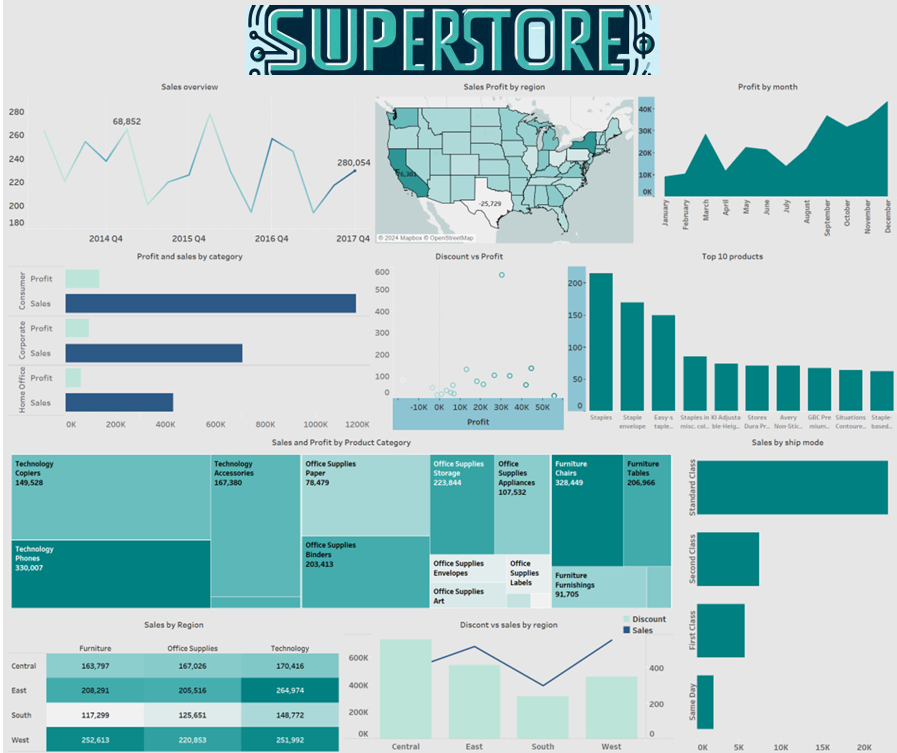

The dashboard page shown, as its layout file describes it:
{"tool":"tableau","page":{"name":"Super store Dashboard","canvas":[1900,1600],"ordinal":0},"visuals":[{"type":"image","param":"Image/the word superstore in teal color in 1 line.png","box":[8,8,1884,153]},{"type":"worksheet","title":"Sales overview","mark":"Line","rows":["Sales"],"cols":["Order Date"],"box":[8,161,773,357.6]},{"type":"worksheet","title":"Sales Profit by region","mark":"Multipolygon","box":[781,161,555.5,357.6]},{"type":"worksheet","title":"Profit by month","mark":"Area","rows":["Profit"],"cols":["Order Date"],"box":[1336.5,161,555.5,357.6]},{"type":"worksheet","title":"Profit and sales by category","mark":"Automatic","rows":["Segment"],"box":[8,518.6,773,392.8]},{"type":"worksheet","title":"Discount vs Profit","mark":"Automatic","rows":["Discount"],"cols":["Profit"],"box":[781,518.6,407.2,392.8]},{"type":"worksheet","title":"Top 10 products","mark":"Automatic","rows":["Quantity"],"cols":["Product Name"],"box":[1188.2,518.6,703.8,392.8]},{"type":"worksheet","title":"Sales and Profit by Product Category","mark":"Automatic","box":[8,911.4,1413,384.2]},{"type":"worksheet","title":"Sales by ship mode","mark":"Bar","rows":["Ship Mode"],"cols":["Quantity"],"box":[1421,911.4,471,680.6]},{"type":"legend","title":"Discont vs sales by region","param":"[federated.18ff1cu0rirlk819p8szz0paglep].[:Measure Names]","box":[1305,1295,165,94]},{"type":"worksheet","title":"Sales by Region","mark":"Square","rows":["Region"],"cols":["Category"],"box":[8,1295.6,706.5,296.4]},{"type":"worksheet","title":"Discont vs sales by region","mark":"Automatic","rows":["Sales","Discount"],"cols":["Region"],"box":[714.5,1295.6,706.5,296.4]}]}

Visuals, with their boxes in screenshot pixels (x1, y1, x2, y2), scaled from the page's 1900x1600 canvas onto the 897x753 screenshot:
image: crop(4, 4, 893, 76)
"Sales overview" worksheet (Line marks): crop(4, 76, 369, 244)
"Sales Profit by region" worksheet (Multipolygon marks): crop(369, 76, 631, 244)
"Profit by month" worksheet (Area marks): crop(631, 76, 893, 244)
"Profit and sales by category" worksheet: crop(4, 244, 369, 429)
"Discount vs Profit" worksheet: crop(369, 244, 561, 429)
"Top 10 products" worksheet: crop(561, 244, 893, 429)
"Sales and Profit by Product Category" worksheet: crop(4, 429, 671, 610)
"Sales by ship mode" worksheet (Bar marks): crop(671, 429, 893, 749)
"Discont vs sales by region" legend: crop(616, 609, 694, 654)
"Sales by Region" worksheet (Square marks): crop(4, 610, 337, 749)
"Discont vs sales by region" worksheet: crop(337, 610, 671, 749)
